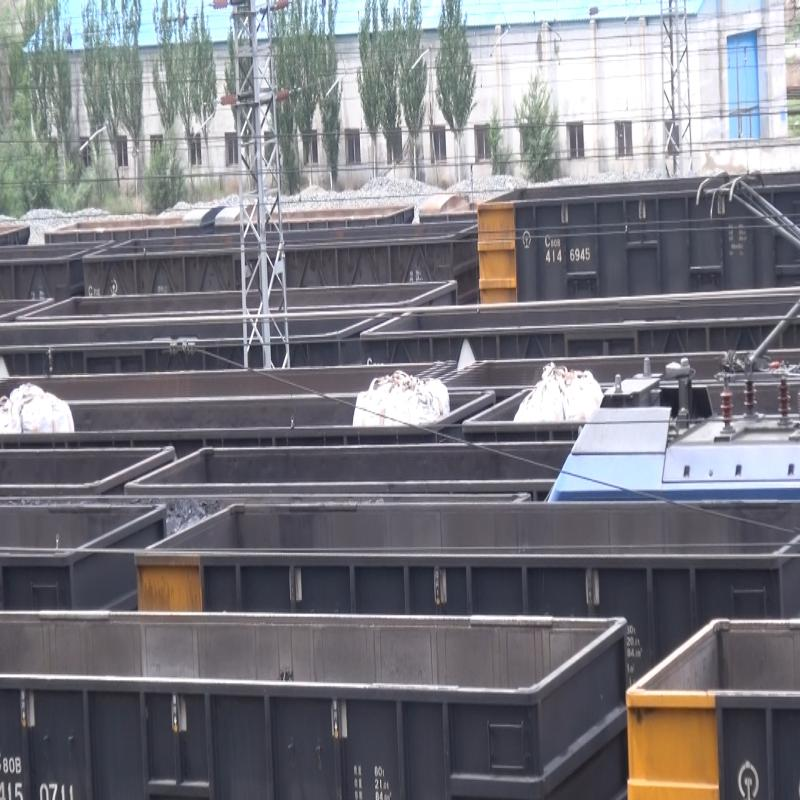train: (476, 187, 796, 328)
